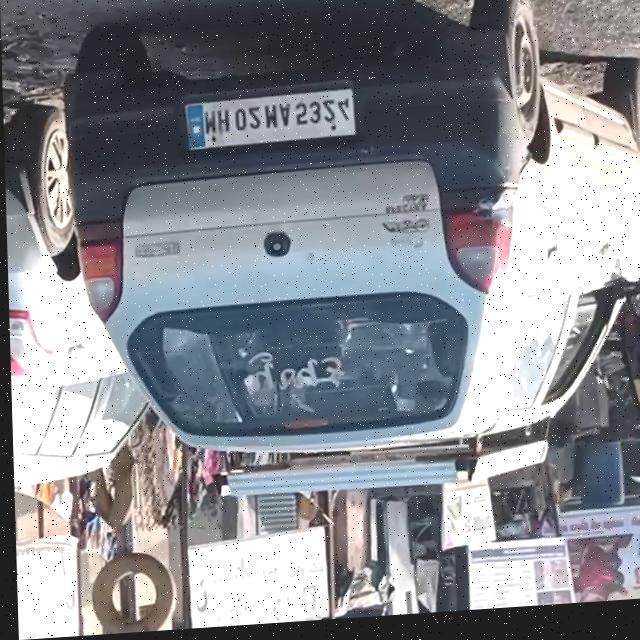plate: (181, 93, 356, 155)
